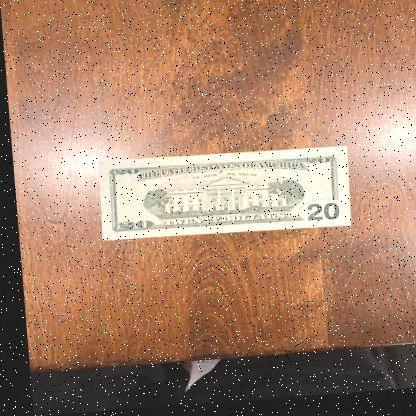twenty-back: (94, 147, 350, 246)
